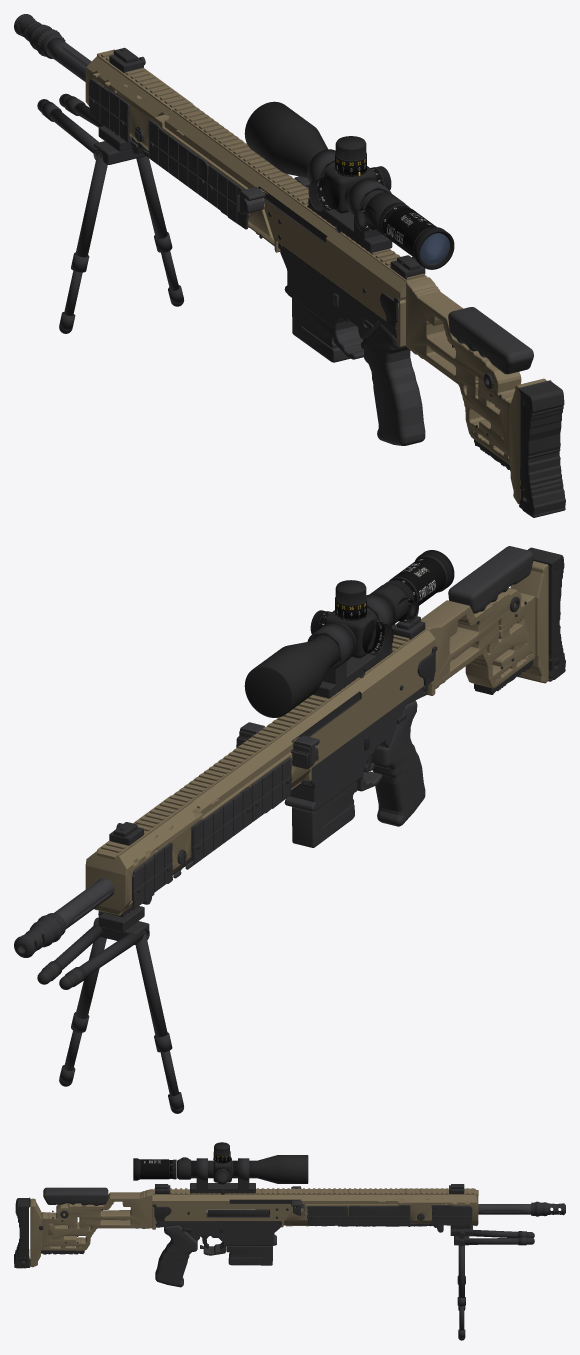
Rendered from grot.glb.
3 renders of one model, top to bottom at view 1: azimuth 30°, elevation 25°; view 2: azimuth 150°, elevation 25°; view 3: azimuth 270°, elevation 25°, orthographic. The views are drawn at different scales.
Parts seen in each view (by area): view 1: upper_receiver, stock, scope, butt_pad, handguard_panels, pistol_grip, lower_receiver, handguard, bipod_deployed, cheek_rest, scope_mount, bipod_folded (+6 smaller); view 2: upper_receiver, scope, stock, handguard, handguard_panels, lower_receiver, butt_pad, pistol_grip, bipod_deployed, bipod_folded, cheek_rest, scope_mount (+6 smaller); view 3: upper_receiver, stock, scope, handguard_panels, handguard, lower_receiver, pistol_grip, butt_pad, scope_mount, bipod_folded, cheek_rest, magazine (+5 smaller).
Part boxes in pixels (x1,y1,x2,y2): upper_receiver: (97,49,427,347); stock: (380,277,521,471); scope: (244,101,454,269); butt_pad: (509,378,565,517); handguard_panels: (89,78,248,229); pistol_grip: (364,324,425,445); lower_receiver: (278,243,398,359); handguard: (85,55,274,246); bipod_deployed: (59,154,184,333); cheek_rest: (448,307,533,374); scope_mount: (307,149,392,252); bipod_folded: (37,93,145,164); upper_receiver: (97,628,435,859); scope: (244,550,454,717); stock: (417,588,535,694); handguard: (85,751,310,917); handguard_panels: (132,757,291,908); lower_receiver: (284,680,428,811); butt_pad: (510,547,565,683); pistol_grip: (371,700,425,826); bipod_deployed: (59,933,183,1113); bipod_folded: (37,906,149,989); cheek_rest: (448,546,533,613); scope_mount: (307,594,393,698); upper_receiver: (152,1188,478,1229); stock: (41,1189,171,1254); scope: (133,1155,308,1183); handguard_panels: (307,1205,472,1226); handguard: (283,1188,478,1229); lower_receiver: (155,1213,281,1255); pistol_grip: (155,1225,197,1287); butt_pad: (14,1197,43,1268); scope_mount: (190,1158,255,1194); bipod_folded: (450,1225,534,1246); cheek_rest: (43,1187,108,1205); magazine: (226,1246,272,1265).
Bounding box in the file's own units: 0.1454 × 0.3891 × 1.08.
Materials: 18 (13 with a texture image).
